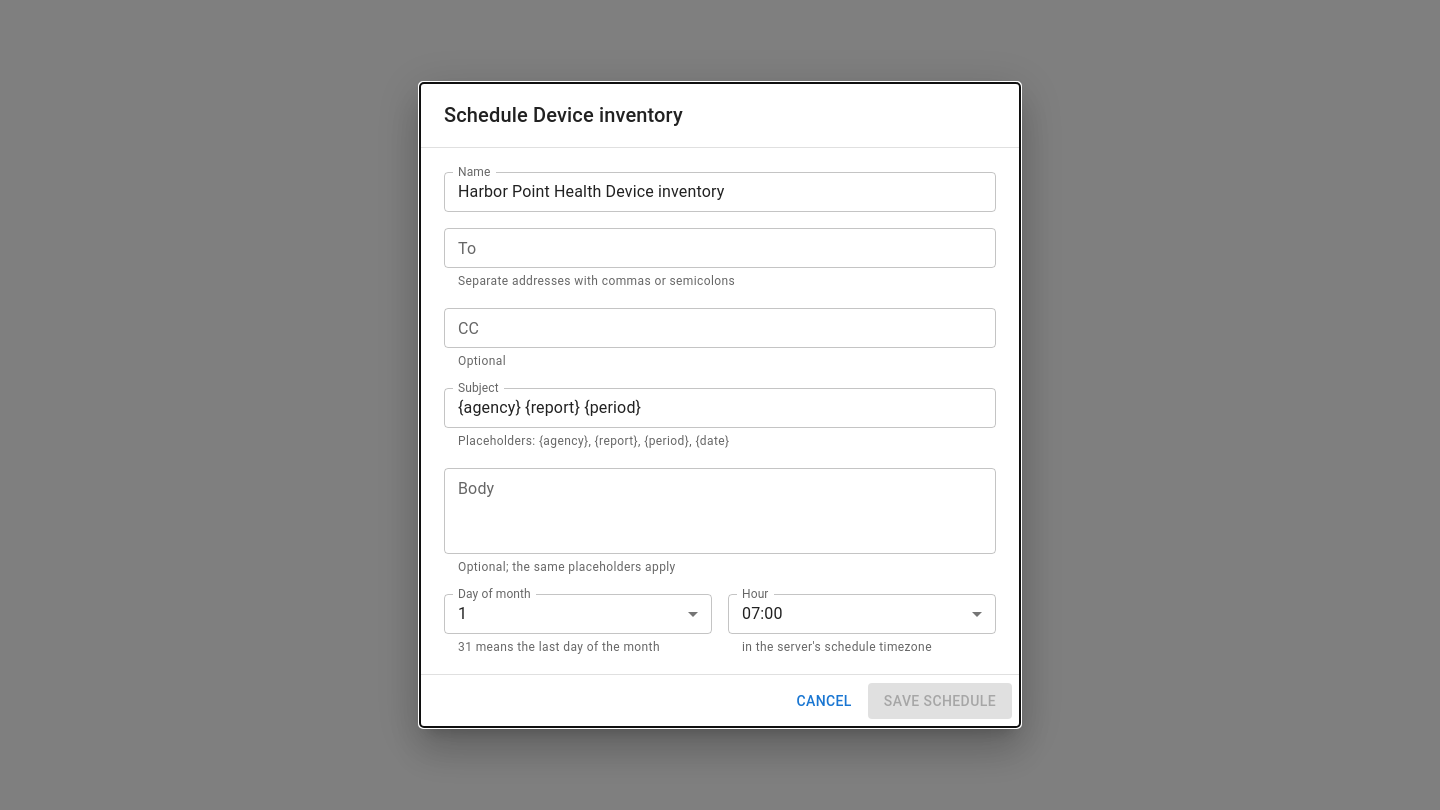
Test: ScheduleDialog › flags an entry that is not an address and blocks saving until it is fixed
Step 1. Type "a@example.com, bogus" into the field labelled "To" → (720, 248), box [444,228,996,268]
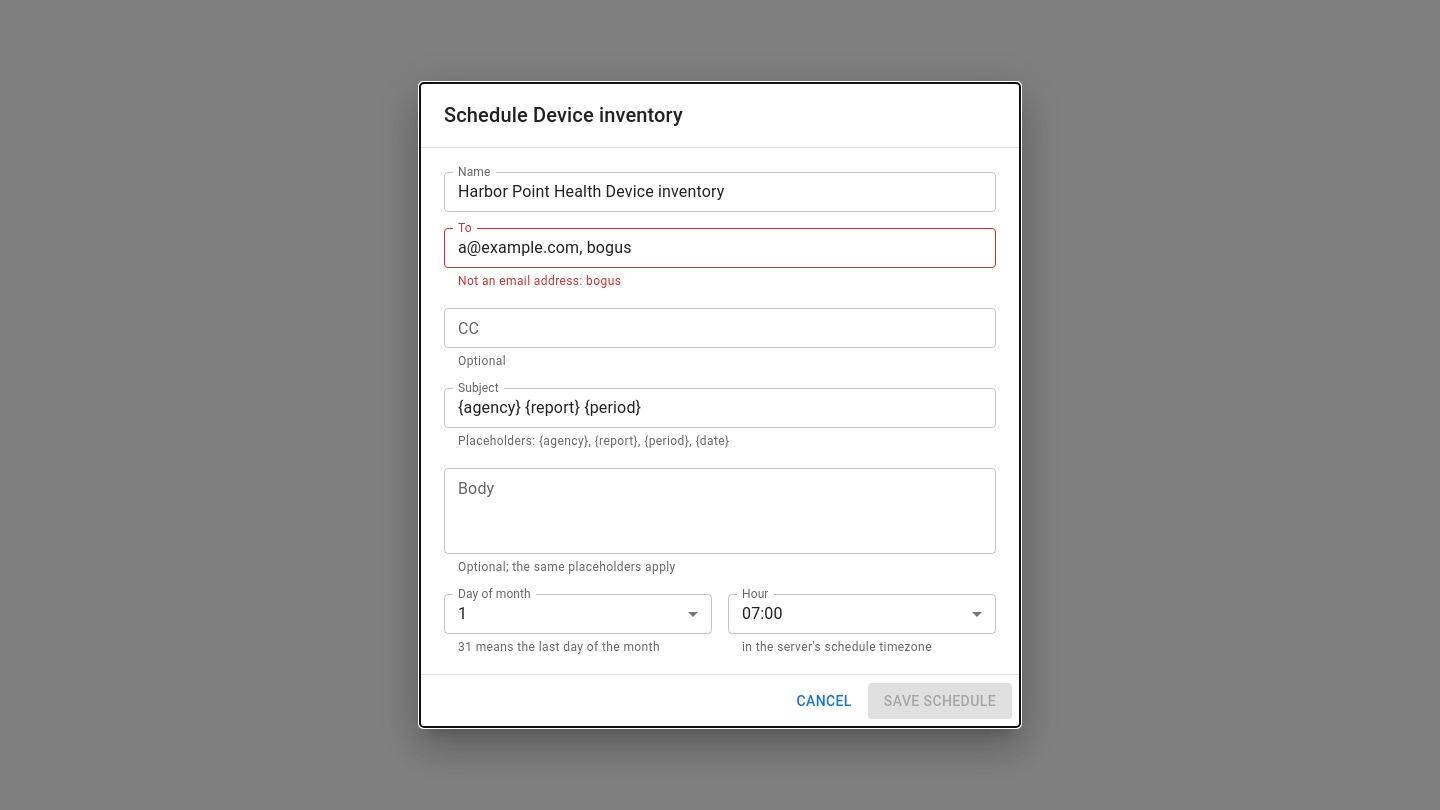
Expected: the button "Save schedule" is disabled, [868,682,1012,719]
Now the text "Not an email address: bogus" is shown, box [458,274,621,288]
Step 2. Type "nobody" into the field labelled "CC" → (720, 328), box [444,308,996,348]
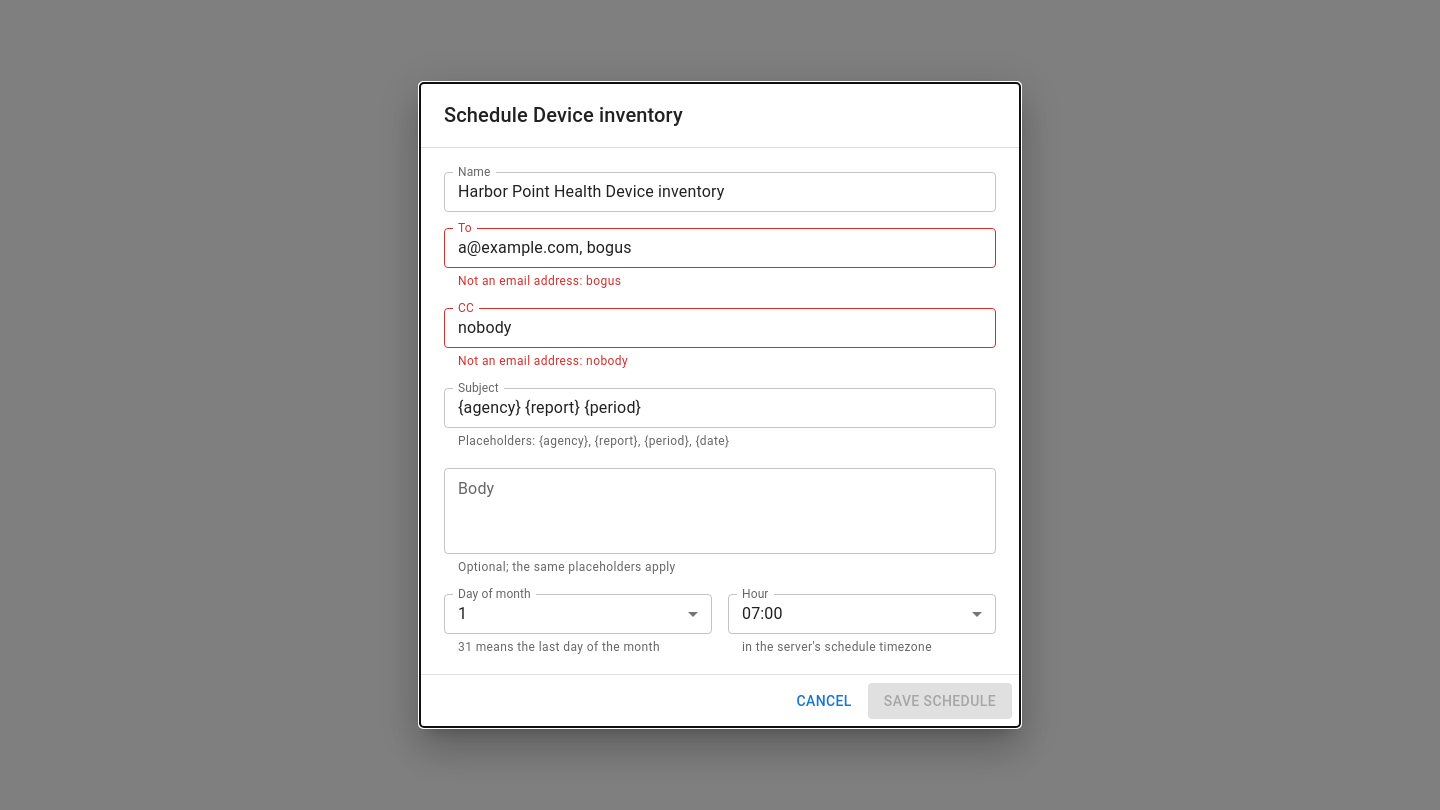
Step 3. Replace the text in the field labelled "To" with "a@example.com" → (720, 248), box [444,228,996,268]
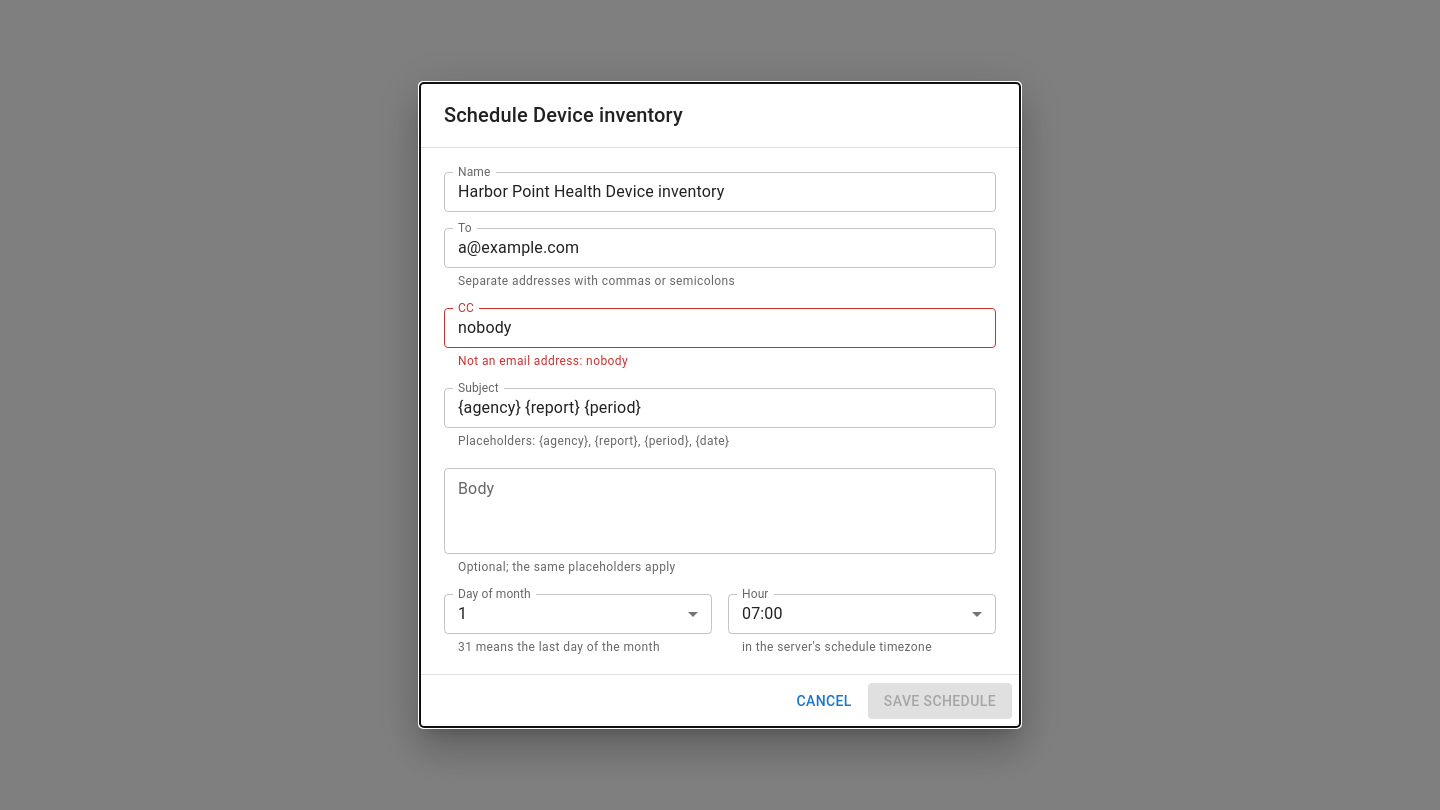
Expected: the button "Save schedule" is disabled, [868,682,1012,719]
Step 4. Clear the field labelled "CC" → (720, 328), box [444,308,996,348]
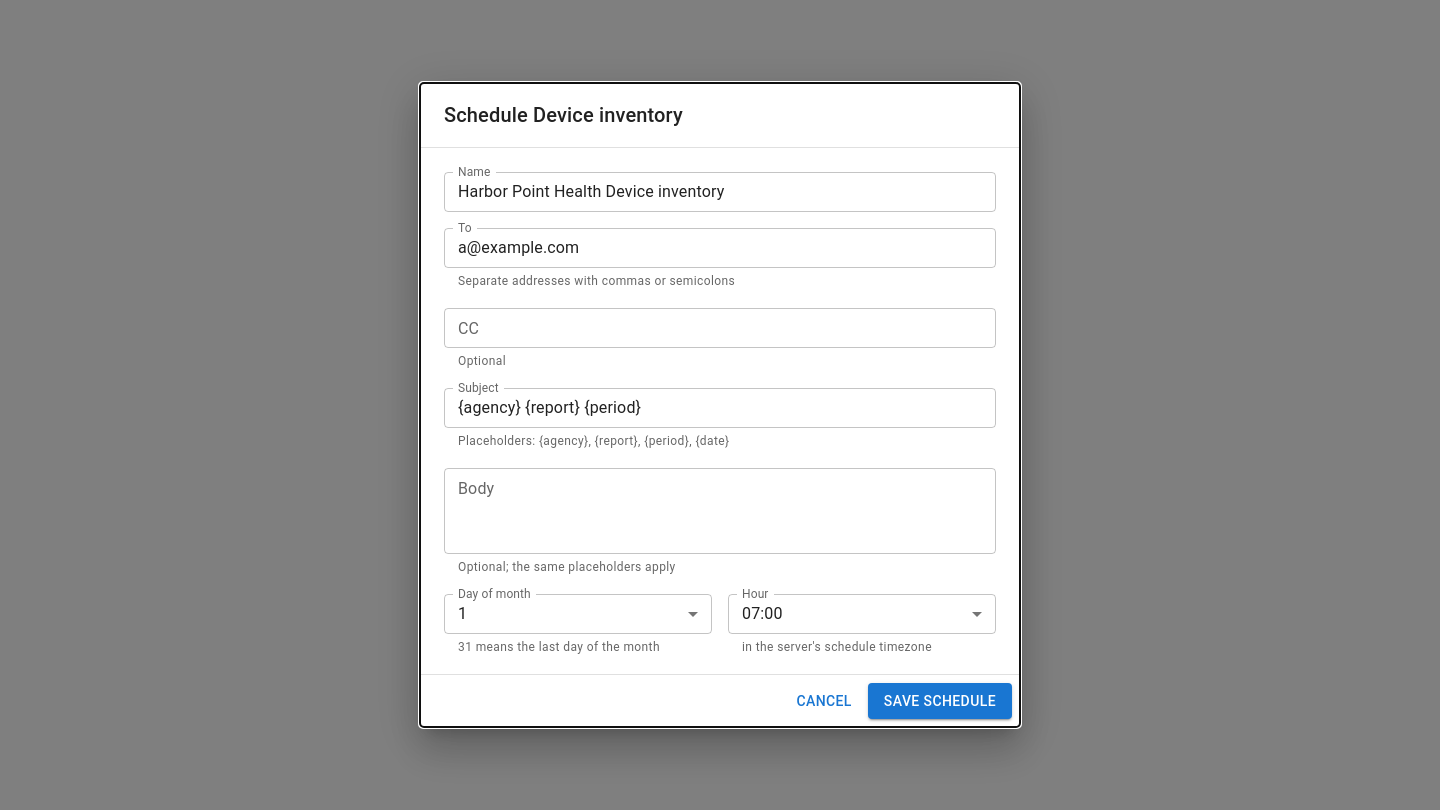
Now the button "Save schedule" is enabled, box [868,682,1012,719]
